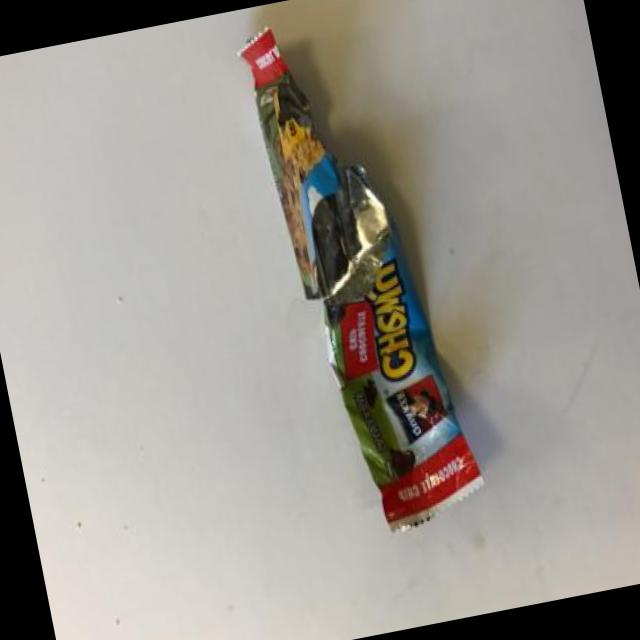giay_goi: (242, 30, 485, 533)
